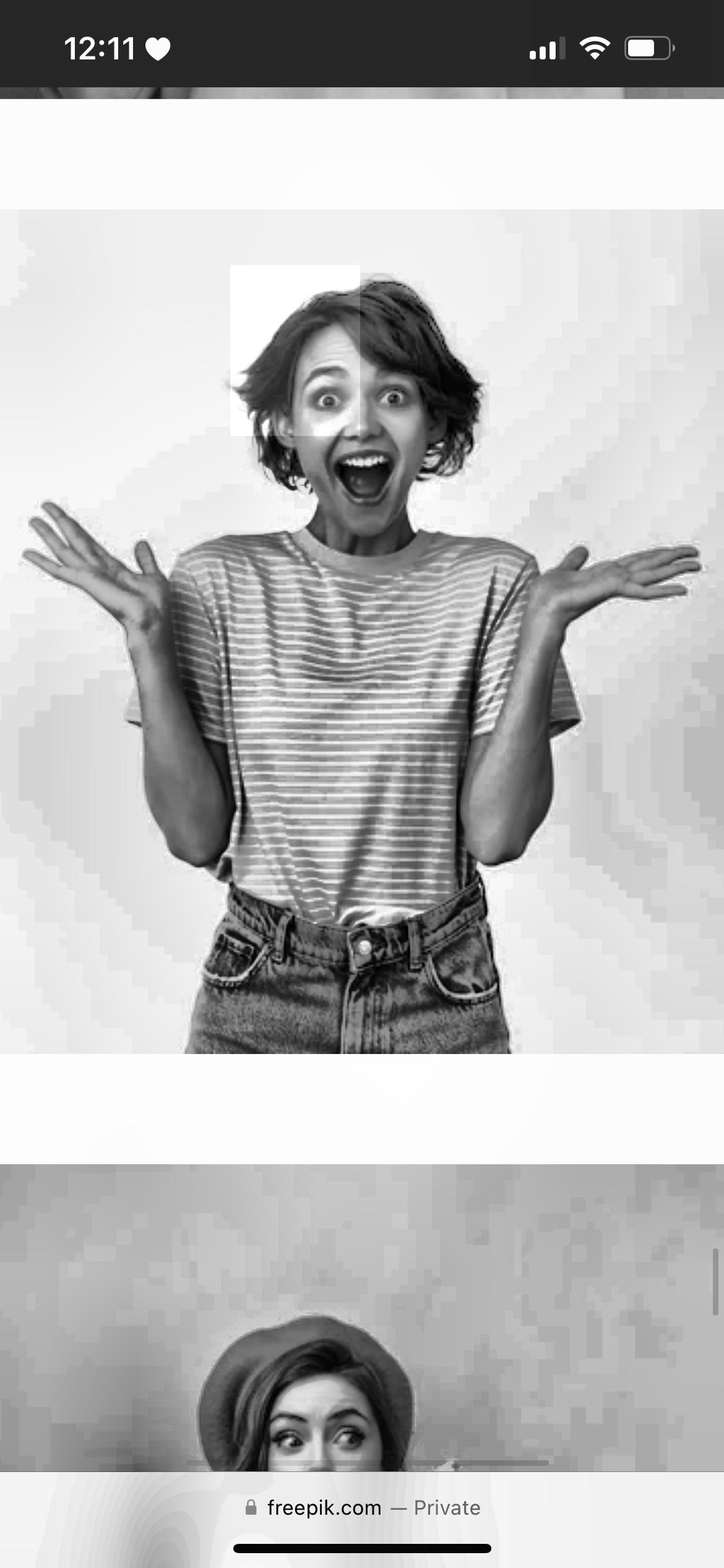surprised: (285, 328, 445, 539)
